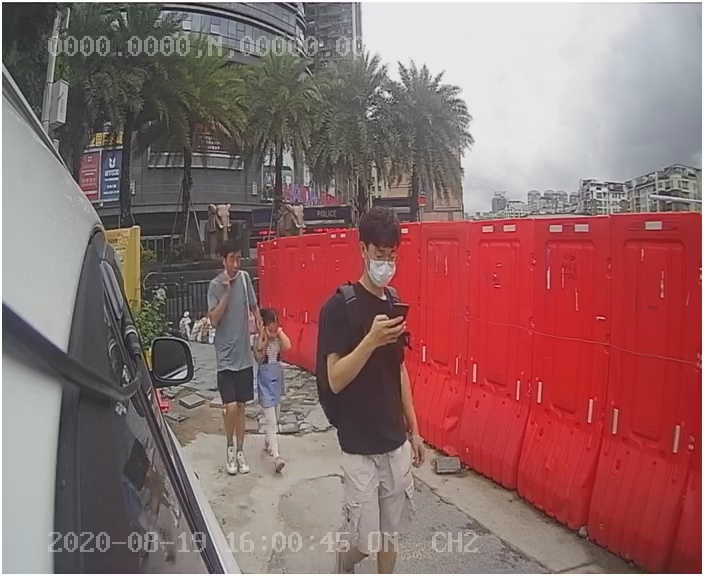person: (297, 208, 449, 531), (197, 241, 267, 479)
